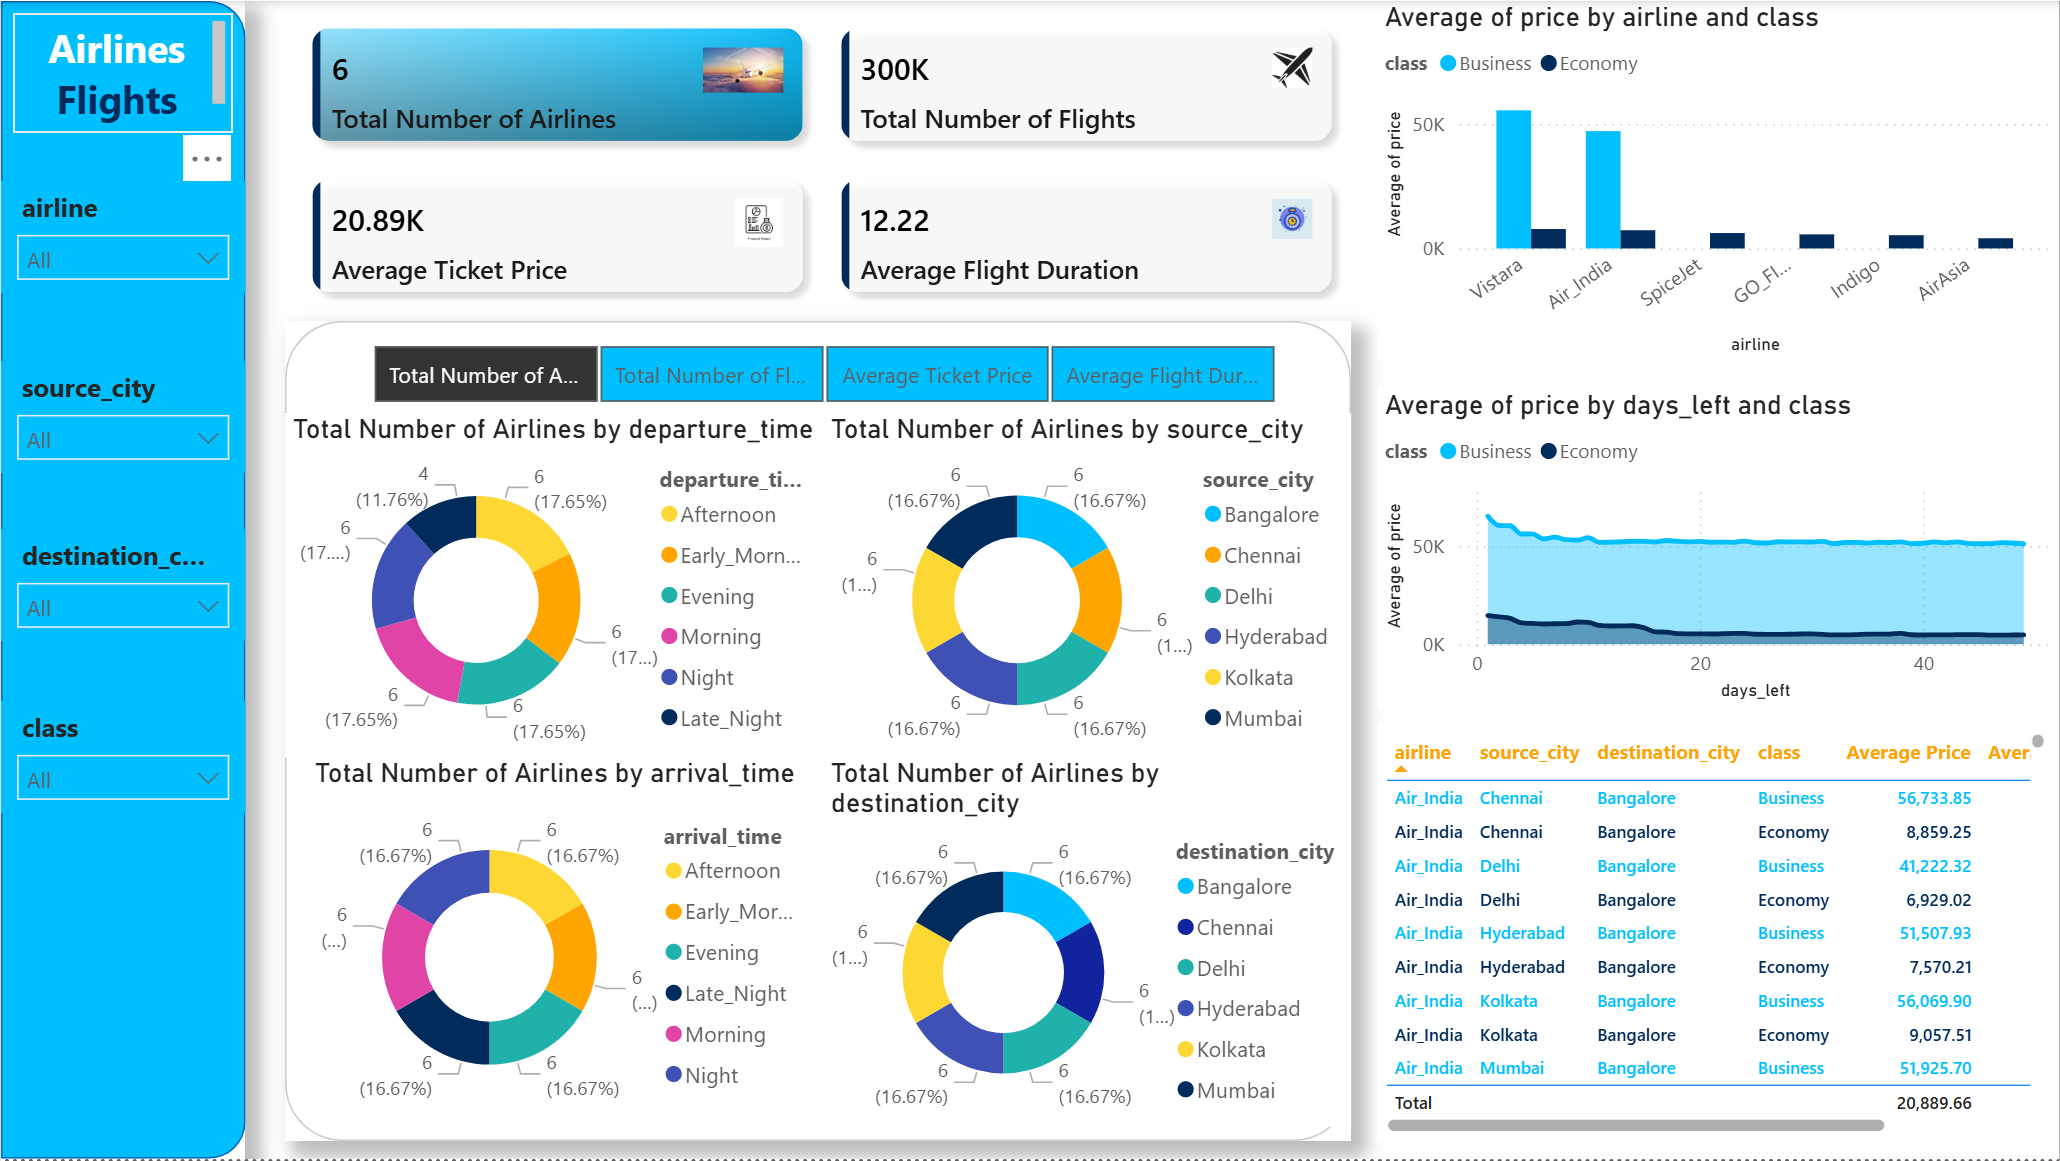

This screenshot's page, from the dashboard's own definition file:
{"tool":"powerbi","page":{"name":"Page 1","canvas":[1280,720],"ordinal":0},"visuals":[{"type":"shape","box":[0,0,152.1,720],"z":0},{"type":"cardVisual","fields":{"Data":["airlines_flights_data.Total Number of Airlines","airlines_flights_data.Total Number of Flights","airlines_flights_data.Average Ticket Price","airlines_flights_data.Average Flight Duration"]},"box":[176.6,0,669.2,199],"z":1000},{"type":"textbox","box":[7.5,7.5,137.1,75],"z":2000},{"type":"shape","box":[176.6,199,663,510],"z":3000},{"type":"slicer","fields":{"Values":["Metrics.Metrics"]},"box":[206.5,207.7,609.5,48.5],"z":4000},{"type":"donutChart","fields":{"Y":["airlines_flights_data.Total Number of Airlines"],"Category":["airlines_flights_data.departure_time"]},"box":[176.6,256.2,335.9,214],"z":5000},{"type":"donutChart","fields":{"Y":["airlines_flights_data.Total Number of Airlines"],"Category":["airlines_flights_data.arrival_time"]},"box":[190.3,470.2,320.9,230.1],"z":6000},{"type":"donutChart","fields":{"Y":["airlines_flights_data.Total Number of Airlines"],"Category":["airlines_flights_data.source_city"]},"box":[511.3,256.2,328.4,214],"z":7000},{"type":"donutChart","fields":{"Y":["airlines_flights_data.Total Number of Airlines"],"Category":["airlines_flights_data.destination_city"]},"box":[511.3,470.2,328.4,230.1],"z":8000},{"type":"clusteredColumnChart","fields":{"Category":["airlines_flights_data.airline"],"Y":["Avg(airlines_flights_data.price)"],"Series":["airlines_flights_data.class"]},"box":[855.8,0,424.2,223.9],"z":9000},{"type":"lineChart","fields":{"Category":["airlines_flights_data.days_left"],"Y":["Avg(airlines_flights_data.price)"],"Series":["airlines_flights_data.class"]},"box":[855.8,241.3,424.2,197.8],"z":10000},{"type":"tableEx","fields":{"Values":["airlines_flights_data.airline","airlines_flights_data.source_city","airlines_flights_data.destination_city","airlines_flights_data.class","airlines_flights_data.Average Ticket Price","airlines_flights_data.Average Flight Duration"]},"box":[855.8,450.3,420.4,258.7],"z":11000},{"type":"slicer","fields":{"Values":["airlines_flights_data.airline"]},"box":[0,112,151.8,69.7],"z":12000},{"type":"slicer","fields":{"Values":["airlines_flights_data.destination_city"]},"box":[0,328.4,151.8,69.7],"z":12001},{"type":"slicer","fields":{"Values":["airlines_flights_data.source_city"]},"box":[0,223.9,151.8,69.7],"z":12002},{"type":"slicer","fields":{"Values":["airlines_flights_data.class"]},"box":[0,435.4,151.8,69.7],"z":12003}]}

Visuals, with their boxes in screenshot pixels (x1, y1, x2, y2), scaled from the page's 1280x720 canvas onto the 2060x1161 screenshot:
shape: 0, 0, 245, 1160
cardVisual - airlines_flights_data.Total Number of Airlines x airlines_flights_data.Total Number of Flights: 284, 0, 1361, 321
textbox: 12, 12, 233, 133
shape: 284, 321, 1351, 1143
slicer - Metrics.Metrics: 332, 335, 1313, 413
donutChart - airlines_flights_data.Total Number of Airlines x airlines_flights_data.departure_time: 284, 413, 825, 758
donutChart - airlines_flights_data.Total Number of Airlines x airlines_flights_data.arrival_time: 306, 758, 823, 1129
donutChart - airlines_flights_data.Total Number of Airlines x airlines_flights_data.source_city: 823, 413, 1351, 758
donutChart - airlines_flights_data.Total Number of Airlines x airlines_flights_data.destination_city: 823, 758, 1351, 1129
clusteredColumnChart - airlines_flights_data.airline x Avg(airlines_flights_data.price): 1377, 0, 2059, 361
lineChart - airlines_flights_data.days_left x Avg(airlines_flights_data.price): 1377, 389, 2059, 708
tableEx - airlines_flights_data.airline x airlines_flights_data.source_city: 1377, 726, 2054, 1143
slicer - airlines_flights_data.airline: 0, 181, 244, 293
slicer - airlines_flights_data.destination_city: 0, 530, 244, 642
slicer - airlines_flights_data.source_city: 0, 361, 244, 473
slicer - airlines_flights_data.class: 0, 702, 244, 814
